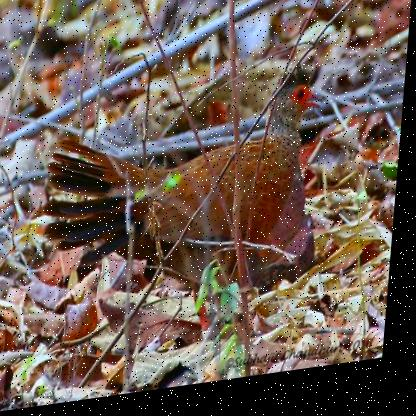Burung: (41, 70, 332, 345)
